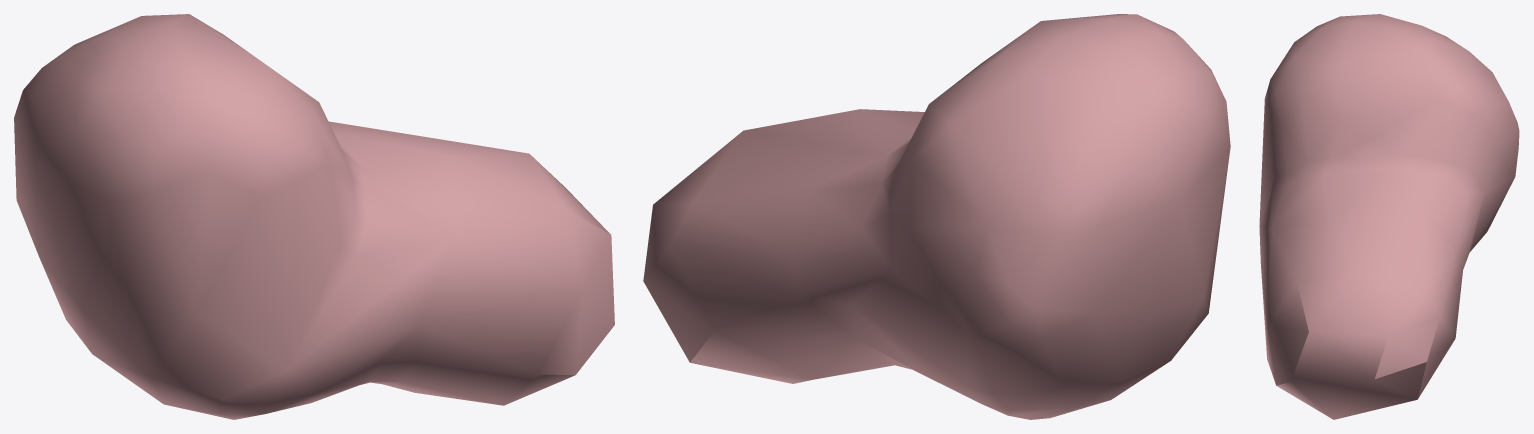
Rendered from fma14965_fj2579.glb.
3 views of the same model, side by side, from view 1: azimuth 30°, elevation 25°; view 2: azimuth 150°, elevation 25°; view 3: azimuth 270°, elevation 25° (orthographic). The views are drawn at different scales.
Parts seen in each view (by area): view 1: FMA14965_FJ2579; view 2: FMA14965_FJ2579; view 3: FMA14965_FJ2579.
Boxes of the visible parts, <box> form: FMA14965_FJ2579: <box>14,14,614,419</box>; FMA14965_FJ2579: <box>643,14,1230,419</box>; FMA14965_FJ2579: <box>1259,14,1519,419</box>.
Size of the model in its own units: 0.0445 by 0.0334 by 0.0278.
